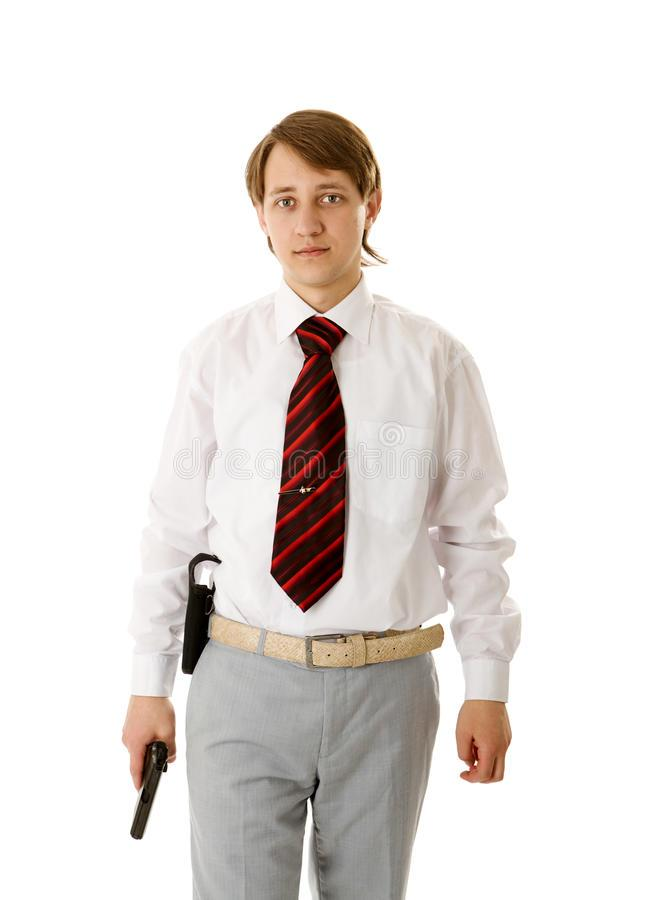criminal: (116, 98, 526, 900)
weapon: (123, 722, 176, 847)
